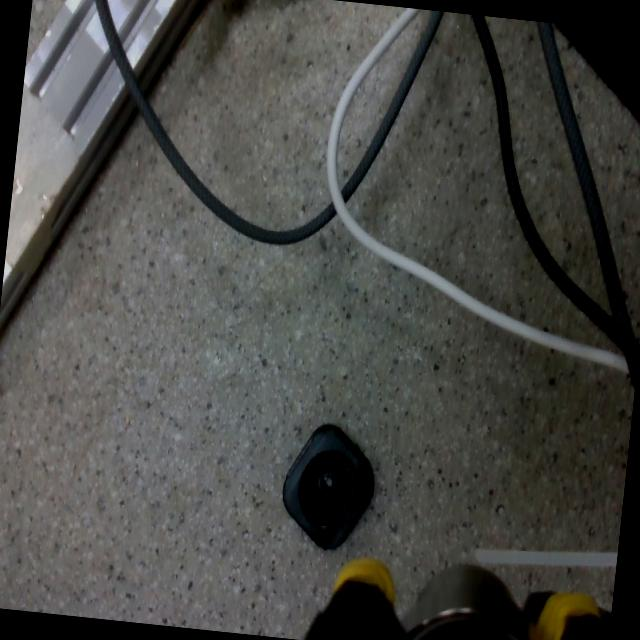cell: (275, 420, 379, 552)
